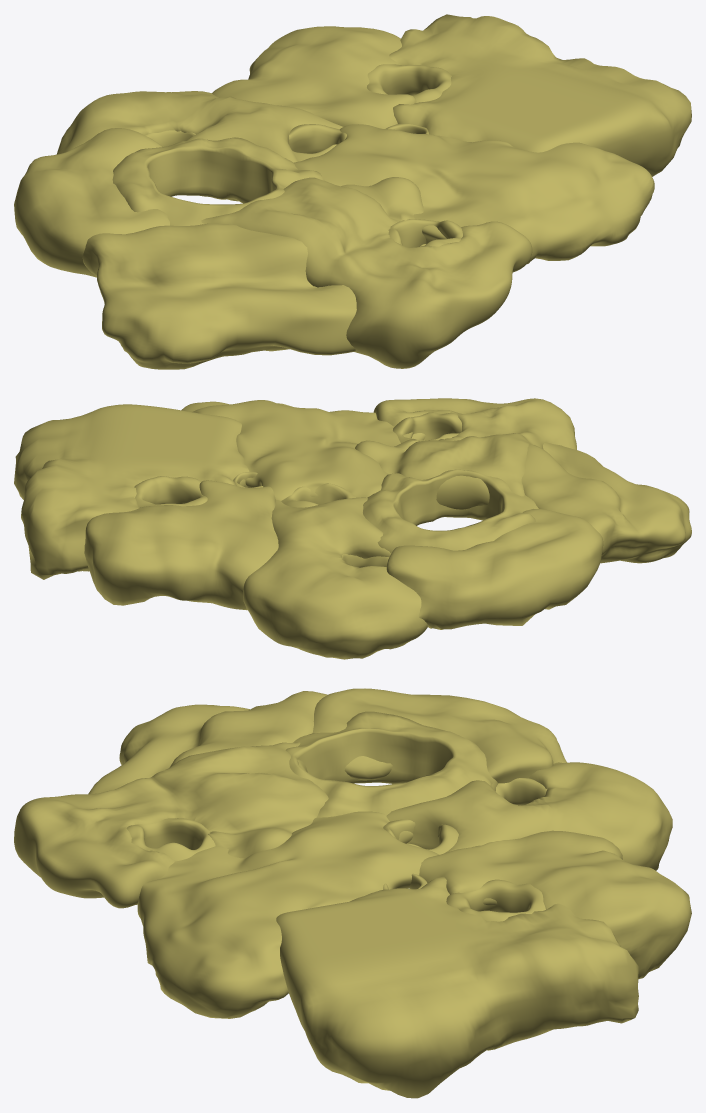
The model's file is Level1Cheese.fbx.
The picture shows the model from 3 angles, top to bottom: view 1: azimuth 30°, elevation 25°; view 2: azimuth 150°, elevation 25°; view 3: azimuth 270°, elevation 25°; orthographic projection. The views are drawn at different scales.
Visible parts, largest first — view 1: Level__RoofBlock01, Level__RoofBlock06, Level__RoofBlock03, Level__RoofBlock07, Level__RoofBlock02, Level__RoofBlock04, Hole, Level__RoofBlock05, Hole1, Hole4, Hole2; view 2: Level__RoofBlock03, Level__RoofBlock05, Level__RoofBlock04, Level__RoofBlock02, Level__RoofBlock06, Level__RoofBlock07, Level__RoofBlock01, Hole, Hole1, Hole2, Hole4, Hole3; view 3: Level__RoofBlock03, Level__RoofBlock07, Level__RoofBlock06, Level__RoofBlock04, Level__RoofBlock05, Hole, Level__RoofBlock02, Level__RoofBlock01, Hole1, Hole2, Hole3, Hole4.
Part boxes in pixels (x1,y1,x2,y2): Level__RoofBlock01: (82,223,356,369); Level__RoofBlock06: (201,177,532,368); Level__RoofBlock03: (389,14,691,176); Level__RoofBlock07: (293,124,654,263); Level__RoofBlock02: (14,128,169,277); Level__RoofBlock04: (212,26,416,128); Hole: (112,137,324,225); Level__RoofBlock05: (56,91,342,201); Hole1: (367,64,451,102); Hole4: (289,124,346,161); Hole2: (388,219,462,247); Level__RoofBlock03: (14,404,249,579); Level__RoofBlock05: (243,497,427,659); Level__RoofBlock04: (84,480,278,610); Level__RoofBlock02: (386,509,603,629); Level__RoofBlock06: (355,398,576,509); Level__RoofBlock07: (181,400,413,500); Level__RoofBlock01: (521,442,691,563); Hole: (363,469,538,553); Hole1: (134,476,207,507); Hole2: (393,412,461,443); Hole4: (281,483,357,507); Hole3: (341,554,389,567); Level__RoofBlock03: (276,876,638,1098); Level__RoofBlock07: (137,811,438,1018); Level__RoofBlock06: (14,742,328,908); Level__RoofBlock04: (419,830,691,979); Level__RoofBlock05: (386,762,672,870); Hole: (285,711,498,817); Level__RoofBlock02: (312,688,566,783); Level__RoofBlock01: (88,691,327,794); Hole1: (446,879,545,921); Hole2: (126,818,215,861); Hole3: (495,778,547,805); Hole4: (383,819,458,854).
Bounding box in the file's own units: 126 × 21.62 × 105.
